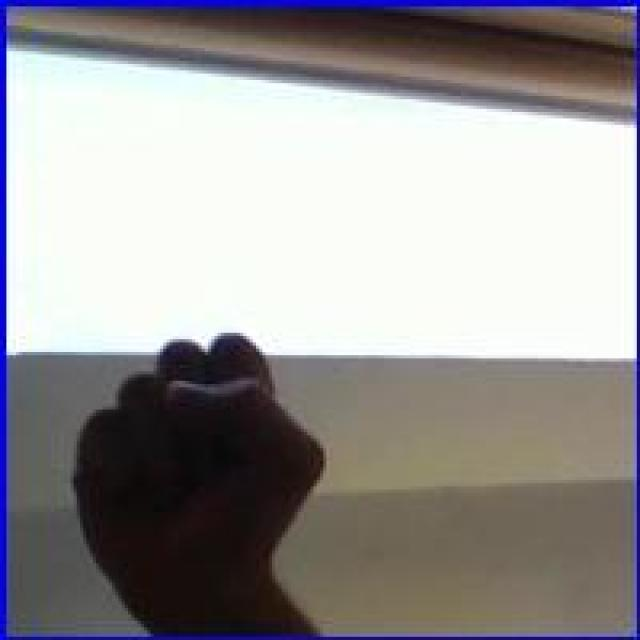S: (66, 328, 331, 590)
